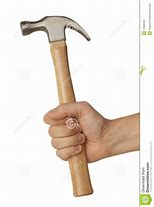hammer: (19, 13, 97, 199)
